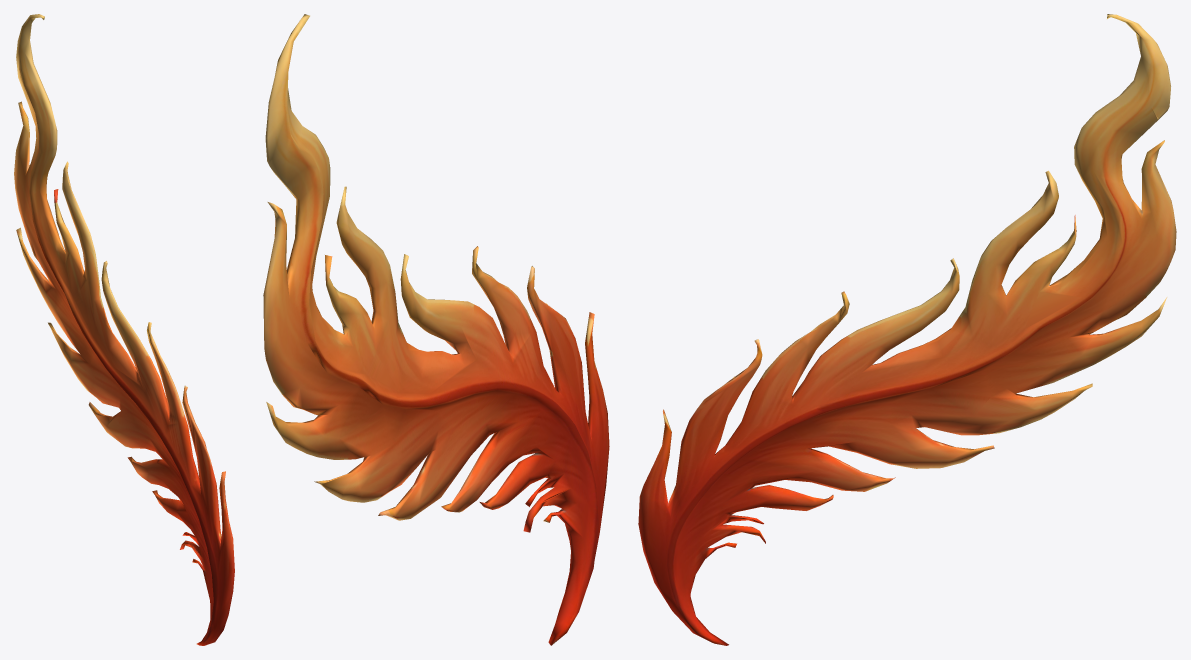
Rendered from 1fixedfeather.fbx.
3 renders of one model, left to right at view 1: azimuth 30°, elevation 25°; view 2: azimuth 150°, elevation 25°; view 3: azimuth 270°, elevation 25°, orthographic. The views are drawn at different scales.
Parts seen in each view (by area): view 1: tripo_node_9dca9c5c; view 2: tripo_node_9dca9c5c; view 3: tripo_node_9dca9c5c.
Part boxes in pixels (x1,y1,x2,y2): tripo_node_9dca9c5c: [14, 14, 234, 645]; tripo_node_9dca9c5c: [263, 14, 609, 645]; tripo_node_9dca9c5c: [638, 14, 1176, 645].
Size of the model in its own units: 3.2 by 100 by 77.3.
Materials: 1 (1 with a texture image).
